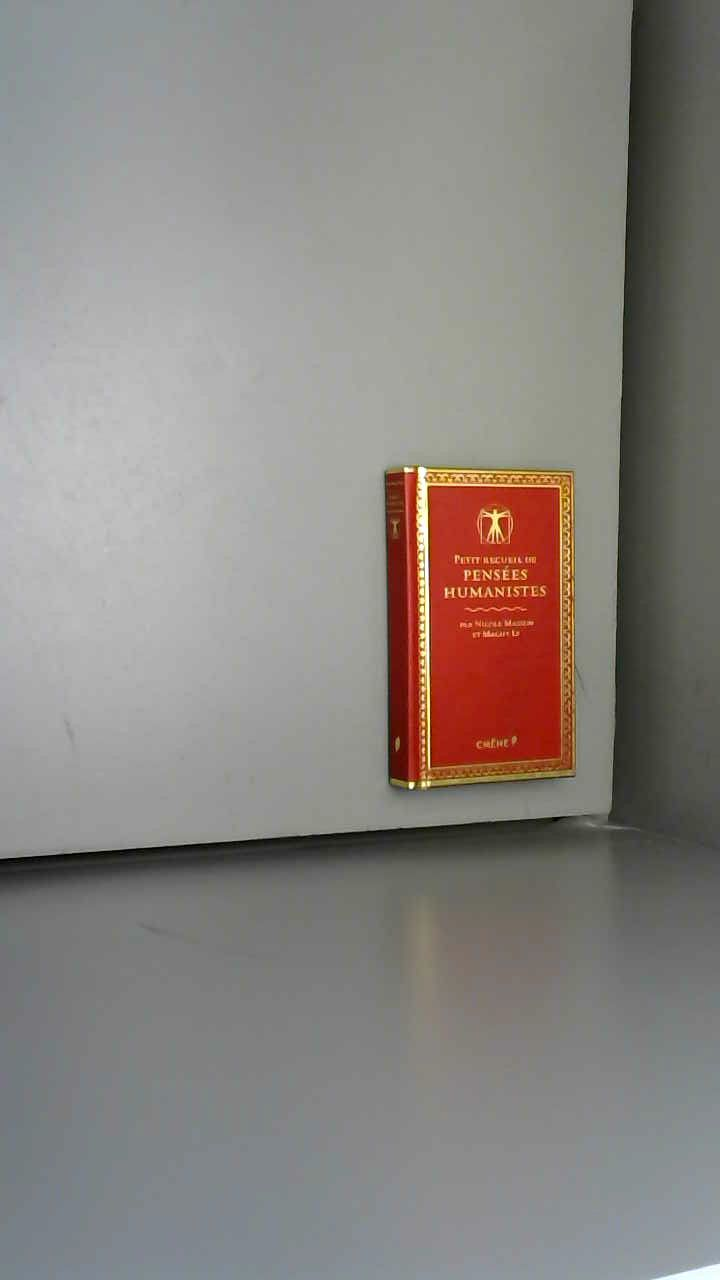book: (362, 437, 610, 823)
